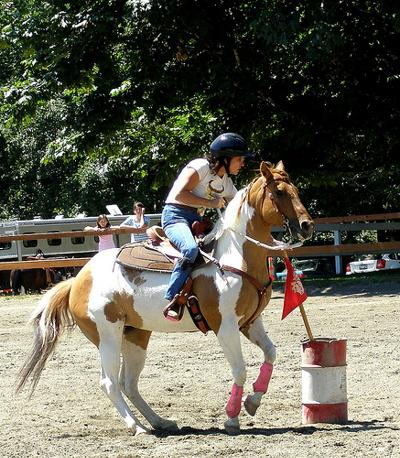person: (160, 130, 246, 325)
